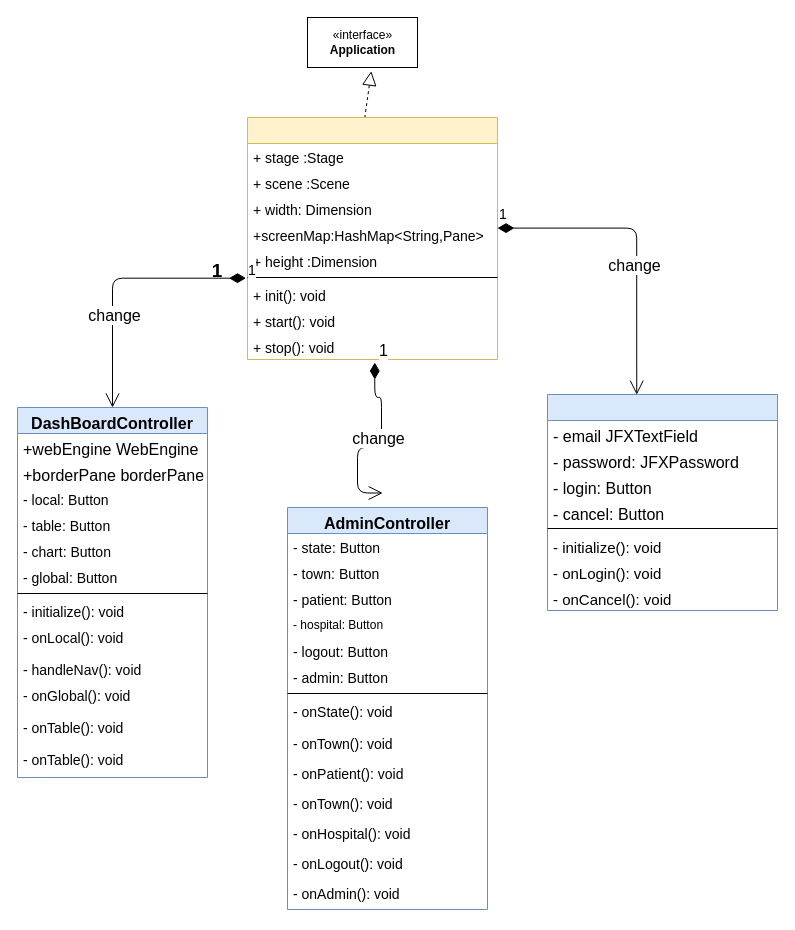
This 795x930 diagram has some shape labels left out. The shapes that lost their labels are listed below. From the top down, each one's box as (x1, y1, x2, y2) in pixels, then its label:
(246, 116, 498, 360): Main
(546, 394, 778, 610): LoginController
